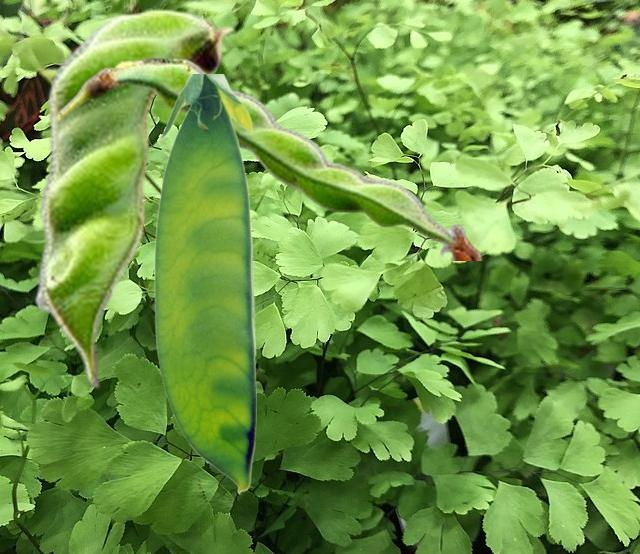pea: (56, 57, 482, 259), (33, 8, 235, 388), (153, 74, 255, 493)
